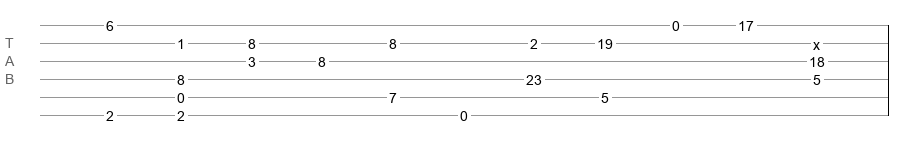0: (177, 90, 185, 100), (460, 108, 468, 118), (672, 18, 680, 28)
1: (177, 36, 185, 46)
17: (738, 18, 754, 28)
18: (809, 54, 825, 64)
19: (597, 36, 613, 46)
2: (106, 108, 114, 118), (177, 108, 185, 118), (530, 36, 538, 46)
23: (526, 72, 542, 82)
3: (248, 54, 256, 64)
5: (601, 90, 609, 100), (813, 72, 821, 82)
6: (106, 18, 114, 28)
7: (389, 90, 397, 100)
8: (177, 72, 185, 82), (248, 36, 256, 46), (318, 54, 326, 64), (389, 36, 397, 46)
x: (813, 37, 820, 45)
